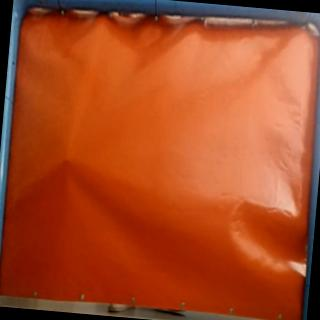Hit-hRxx: (58, 153, 78, 170)
